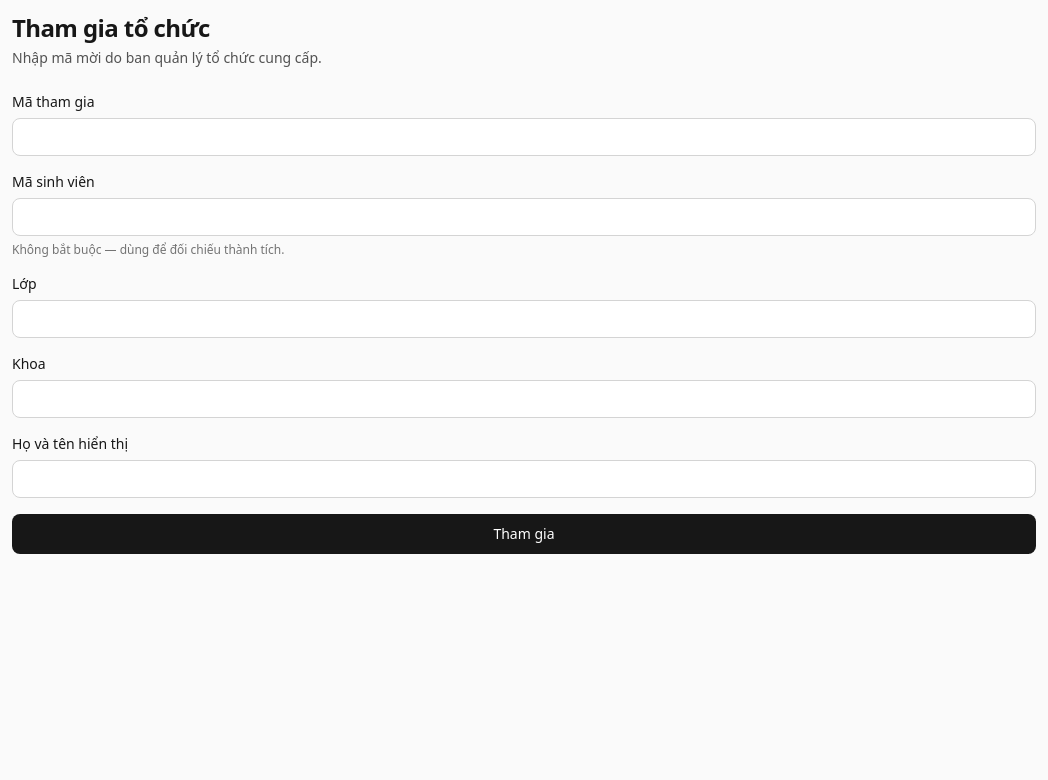
it: JoinForm — /orgs/join › lands org_not_found on the code field
Step 1. Type "CLB-SAI" into the field labelled "Mã tham gia" → (524, 137), box [12,118,1036,156]
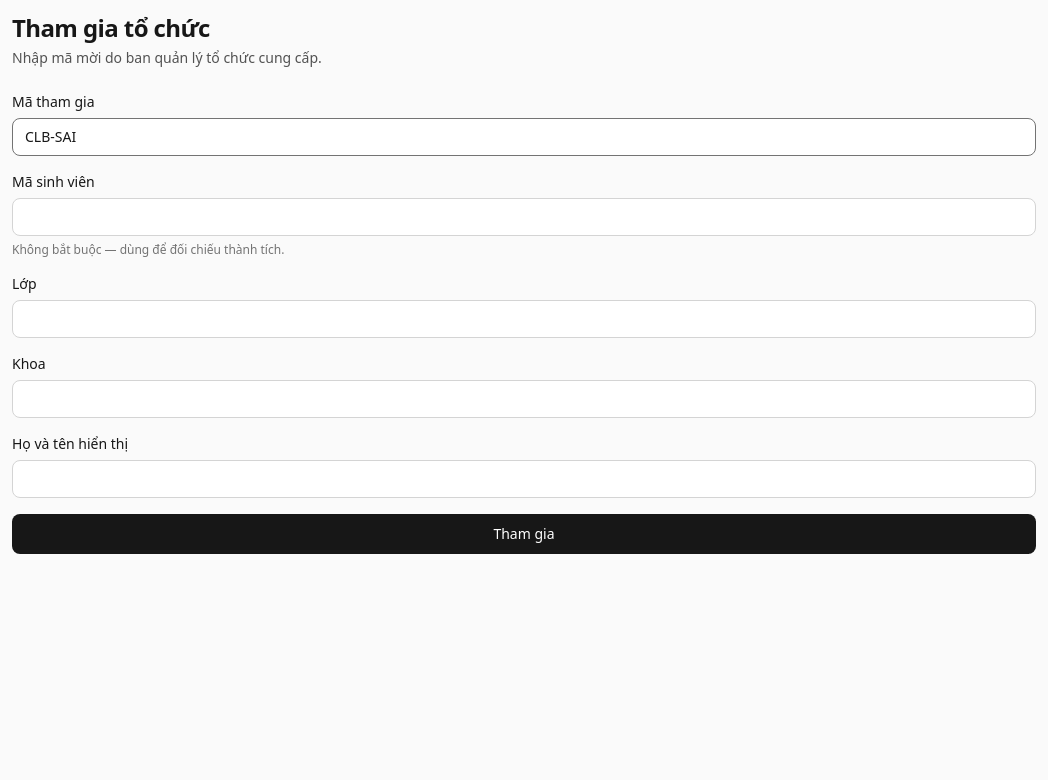
Step 2. Click the button "Tham gia" → (524, 534), box [12,514,1036,554]
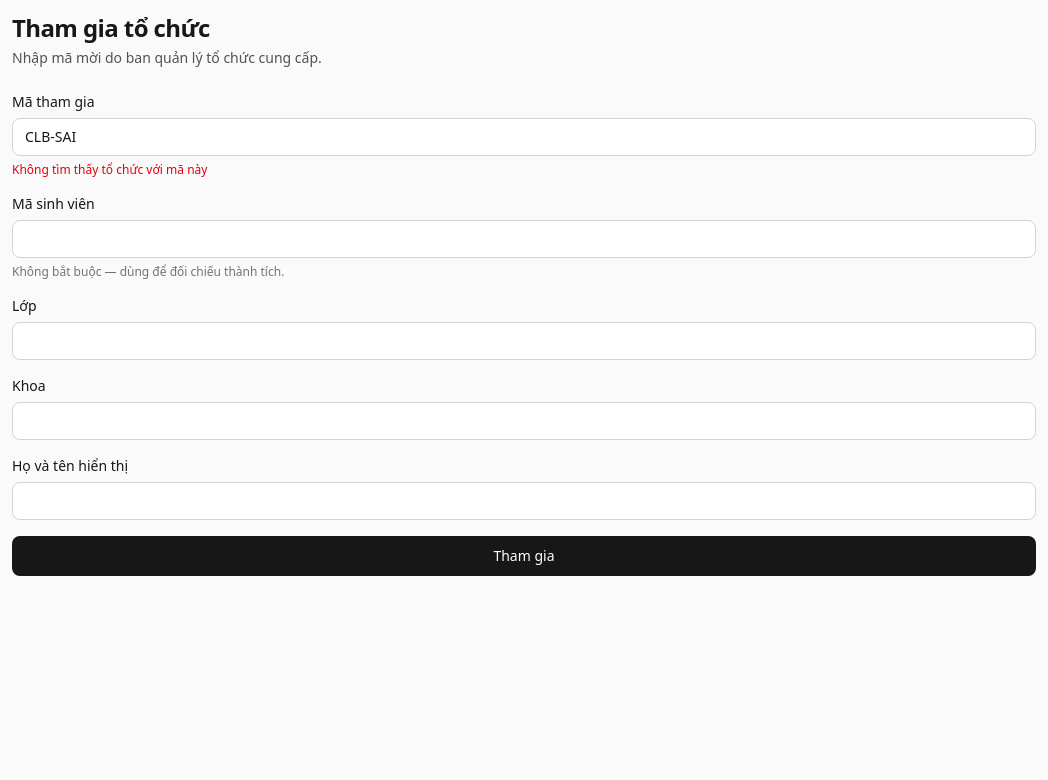
Check: the message reads "Không tìm thấy tổ chức với mã này", box [12,161,207,178]
